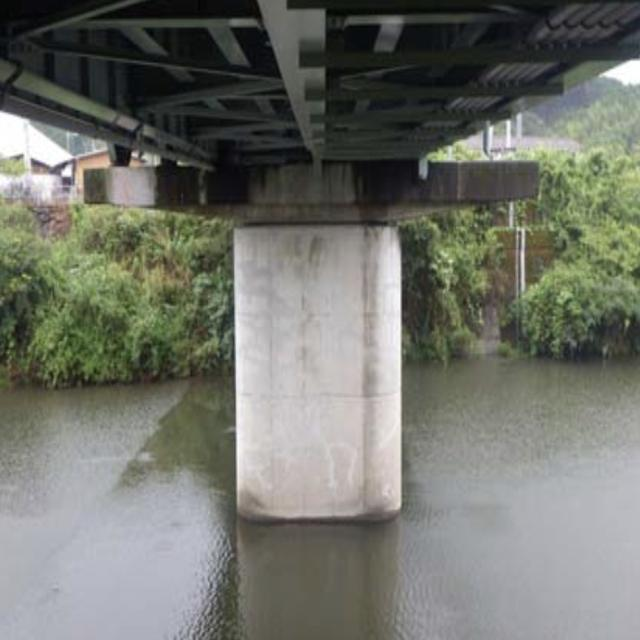leakage: (91, 166, 593, 214)
